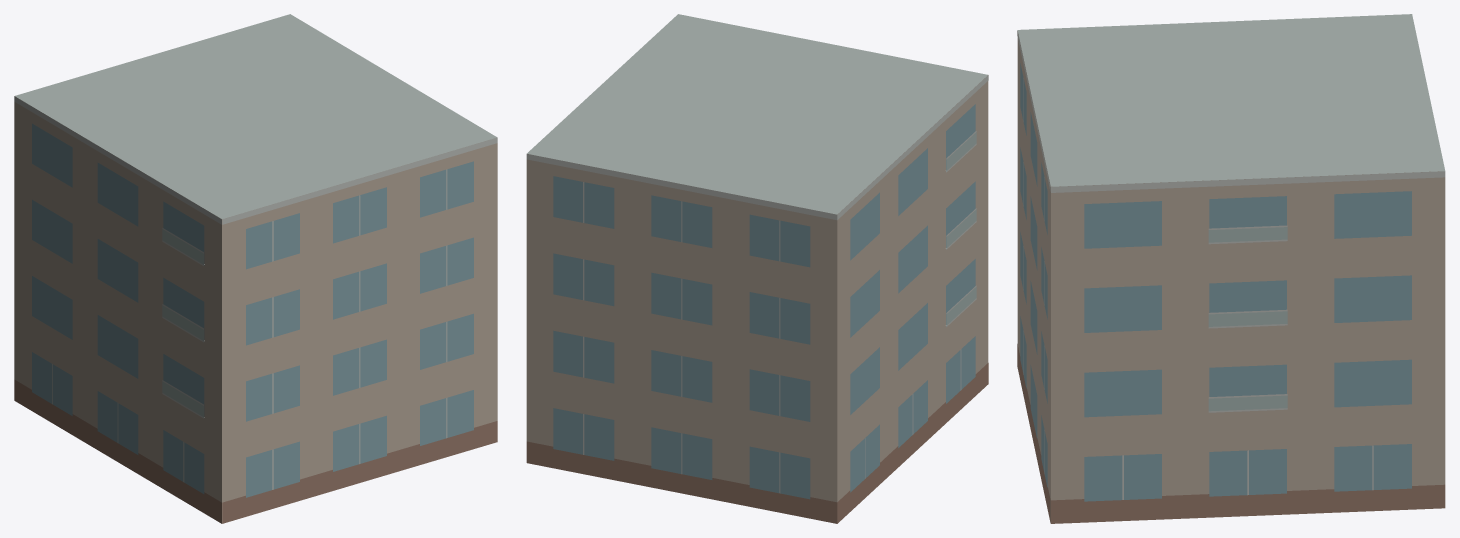
Rendered from survey-upis-32629941.glb.
3 views of the same model, side by side, from view 1: azimuth 30°, elevation 25°; view 2: azimuth 150°, elevation 25°; view 3: azimuth 270°, elevation 25° (orthographic). The views are drawn at different scales.
Visible parts, largest first — view 1: survey-upis-32629941.tmp; view 2: survey-upis-32629941.tmp; view 3: survey-upis-32629941.tmp.
Boxes of the visible parts, <box> form: survey-upis-32629941.tmp: <box>14,14,497,523</box>; survey-upis-32629941.tmp: <box>526,14,988,523</box>; survey-upis-32629941.tmp: <box>1017,14,1445,523</box>.
Size of the model in its own units: 14.52 by 13.2 by 15.19.
